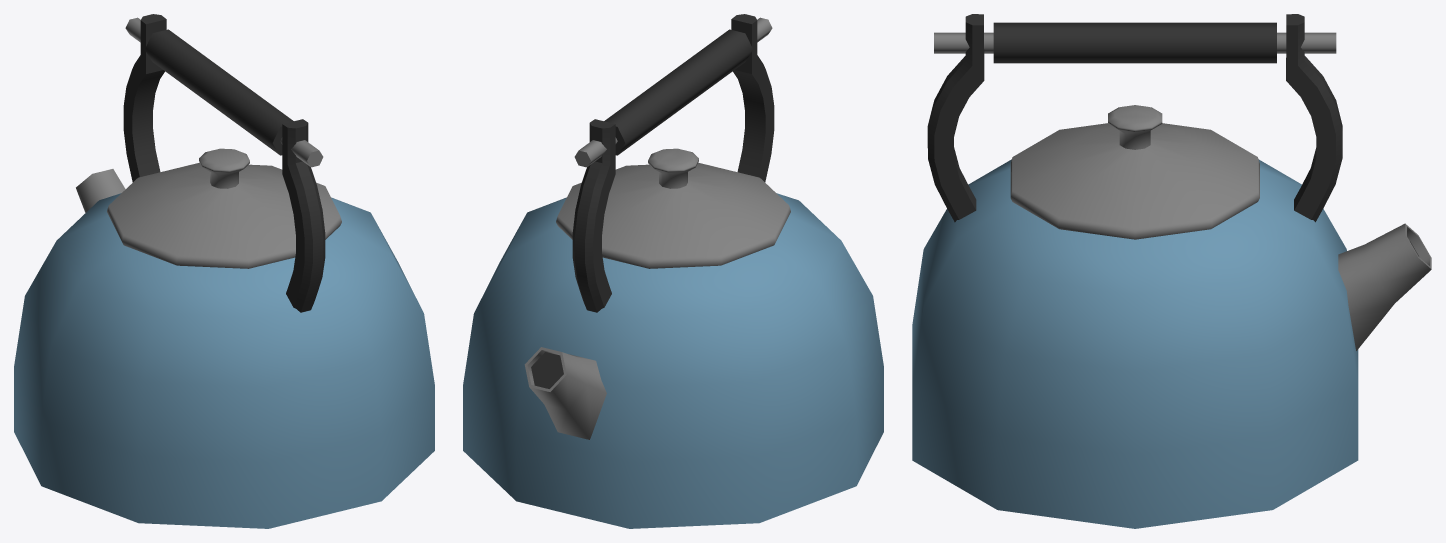
File: SM_Kettle.fbx
3 renders of one model, left to right at view 1: azimuth 30°, elevation 25°; view 2: azimuth 150°, elevation 25°; view 3: azimuth 270°, elevation 25°, orthographic. The views are drawn at different scales.
Parts seen in each view (by area): view 1: SM_Kettle; view 2: SM_Kettle; view 3: SM_Kettle.
Part boxes in pixels (x1,y1,x2,y2): SM_Kettle: [14, 14, 434, 528]; SM_Kettle: [463, 14, 883, 528]; SM_Kettle: [912, 14, 1431, 528].
Size of the model in its own units: 53.69 by 51.87 by 59.49.
